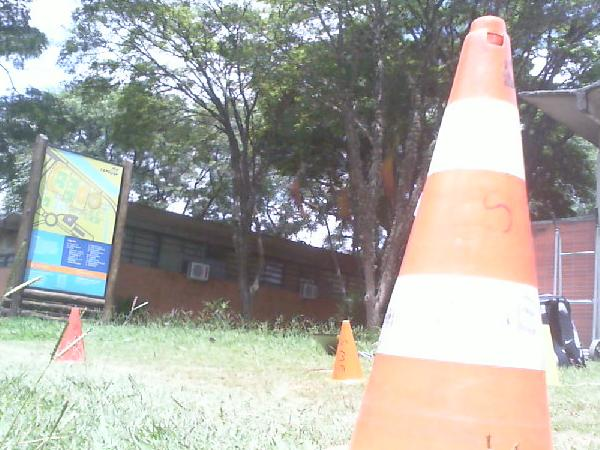0 cone: (265, 16, 554, 450), (331, 319, 365, 384), (54, 306, 85, 365)
